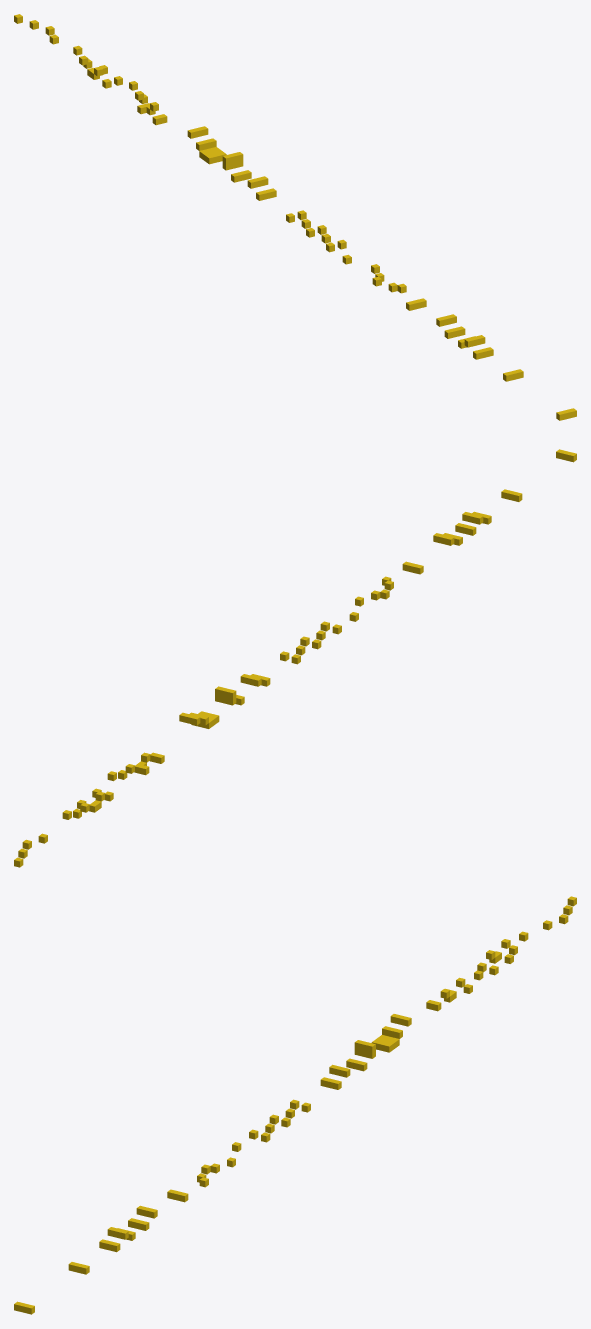
The model's file is Wall Lvl 1.fbx.
3 renders of one model, top to bottom at view 1: azimuth 30°, elevation 25°; view 2: azimuth 150°, elevation 25°; view 3: azimuth 330°, elevation 25°, orthographic. The views are drawn at different scales.
Bounding box in the file's own units: 600 × 600 × 32700.
